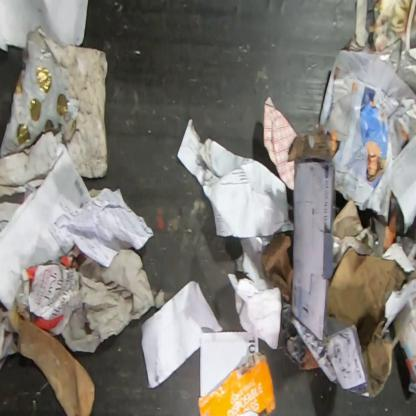cardboard: (260, 127, 416, 399), (10, 310, 97, 415), (198, 350, 277, 415)
soft_plastic: (379, 37, 415, 97)
